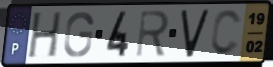4: (104, 10, 131, 59)
C: (208, 8, 244, 58)
G: (62, 10, 96, 59)
H: (26, 10, 64, 61)
R: (134, 9, 171, 60)
V: (179, 7, 211, 60)
